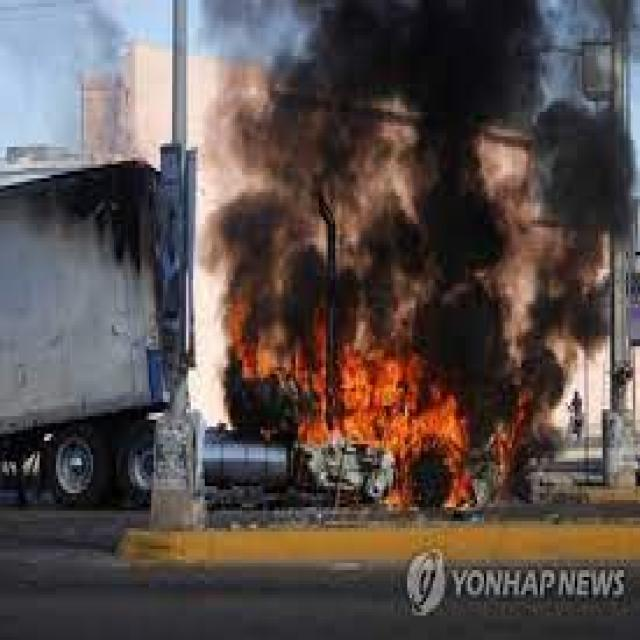fire: (230, 339, 533, 525)
smoke: (200, 4, 640, 339)
